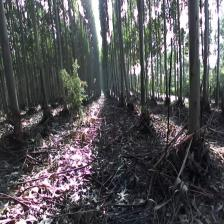trunk: (0, 0, 22, 134), (185, 0, 203, 153), (31, 9, 50, 115), (54, 9, 67, 110), (137, 0, 147, 117), (202, 5, 209, 108), (163, 13, 169, 100)
